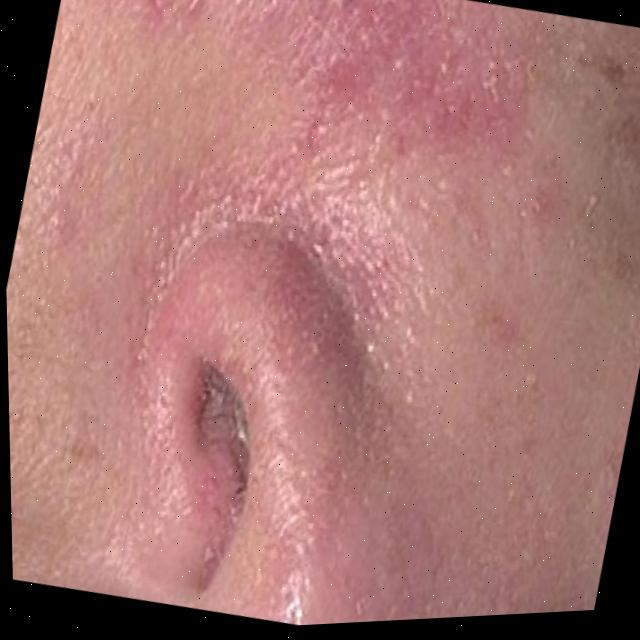Rosacea: (264, 0, 569, 230)
